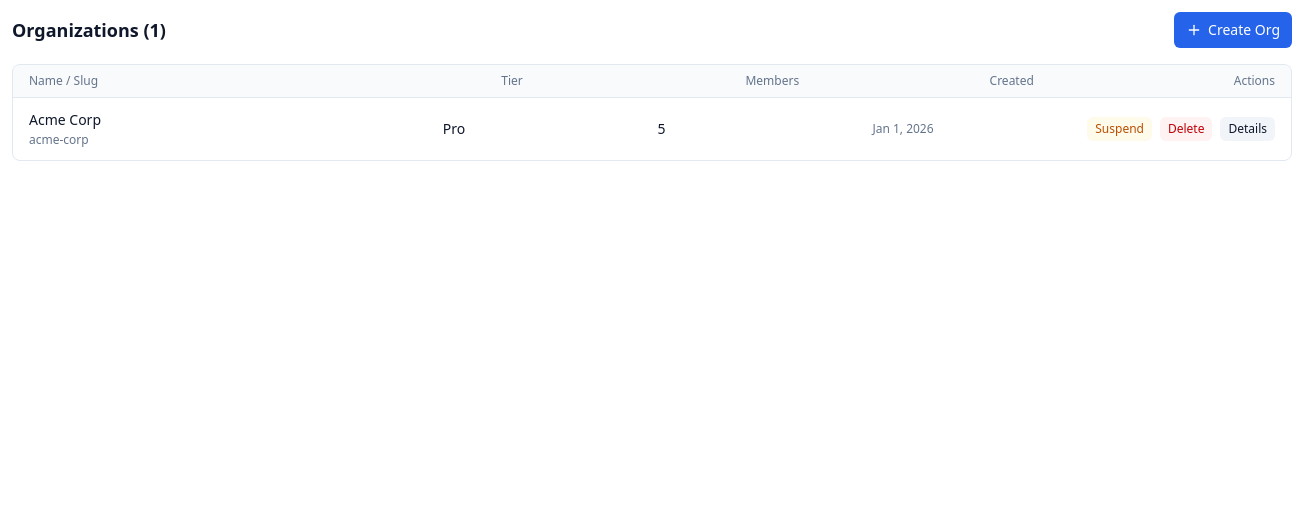
Test case: OrgManager › shows fallback error when suspend throws non-Error
Click the button with test id "suspend-btn-org_1".
click(1120, 129)  # box top-left (1087, 117), bottom-right (1152, 141)
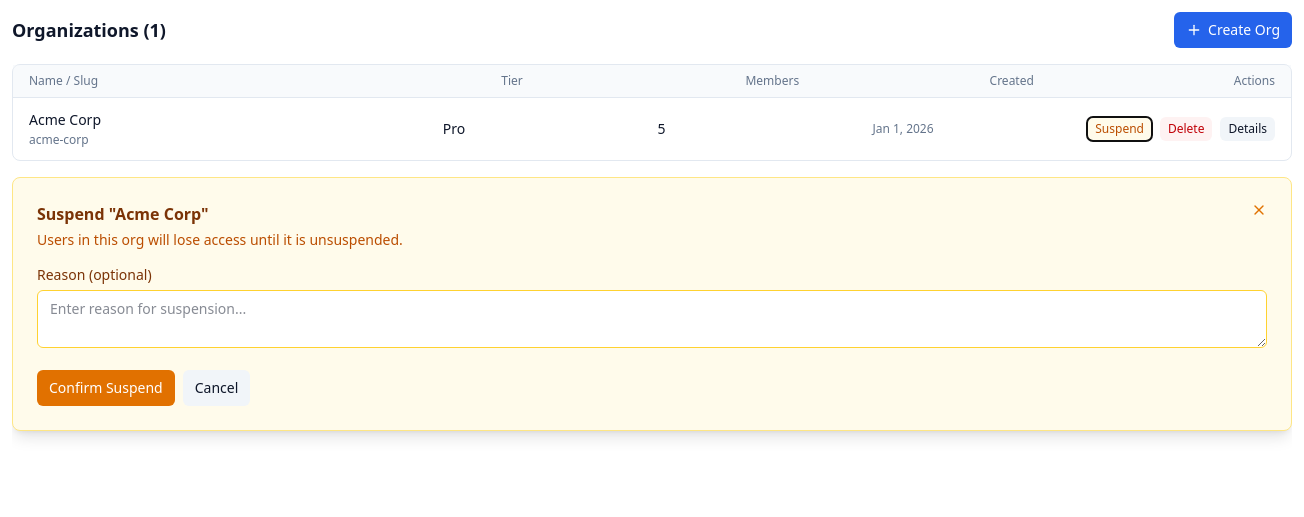
Click the button with test id "suspend-confirm-btn".
click(106, 388)  # box top-left (37, 370), bottom-right (175, 406)
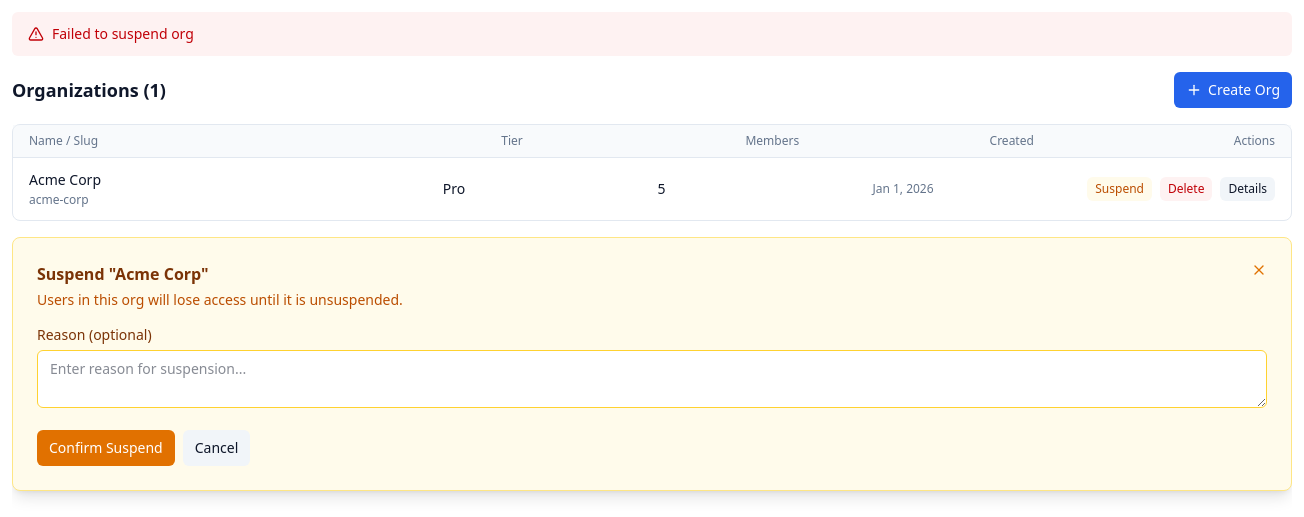
Expected: the element with test id "org-manager-error" reads "Failed to suspend org", top-left (52, 24), bottom-right (194, 43)
